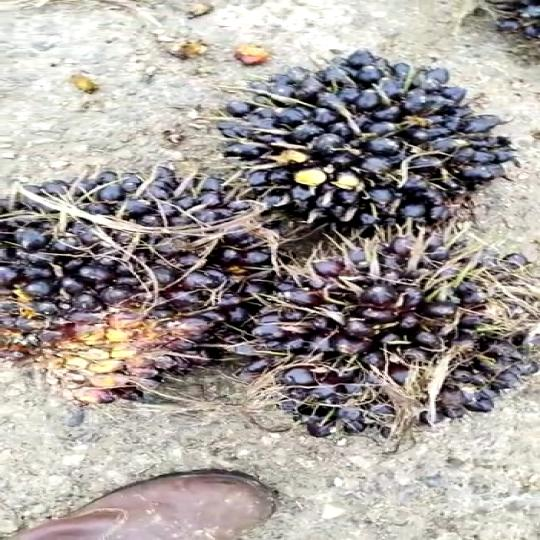mentah: (0, 146, 283, 405), (204, 45, 540, 244), (239, 248, 540, 458)
